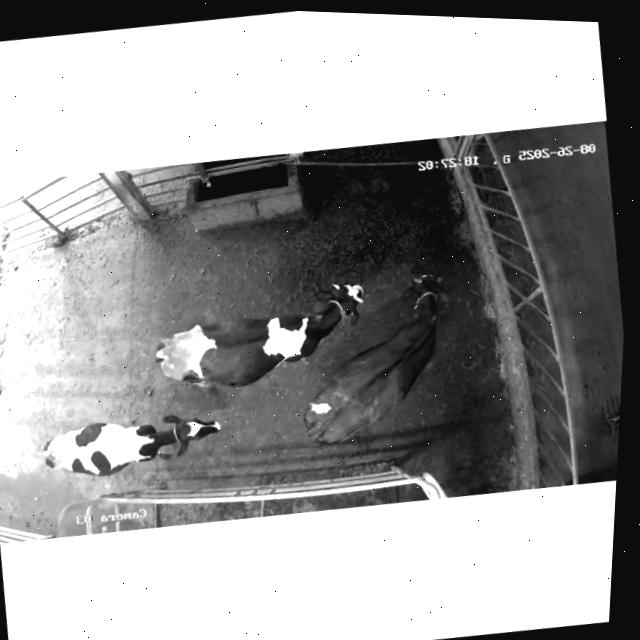stand: (274, 257, 479, 468), (131, 266, 384, 407), (28, 390, 243, 495)
